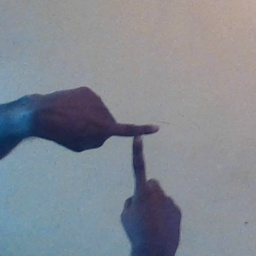T: (77, 85, 183, 209)
